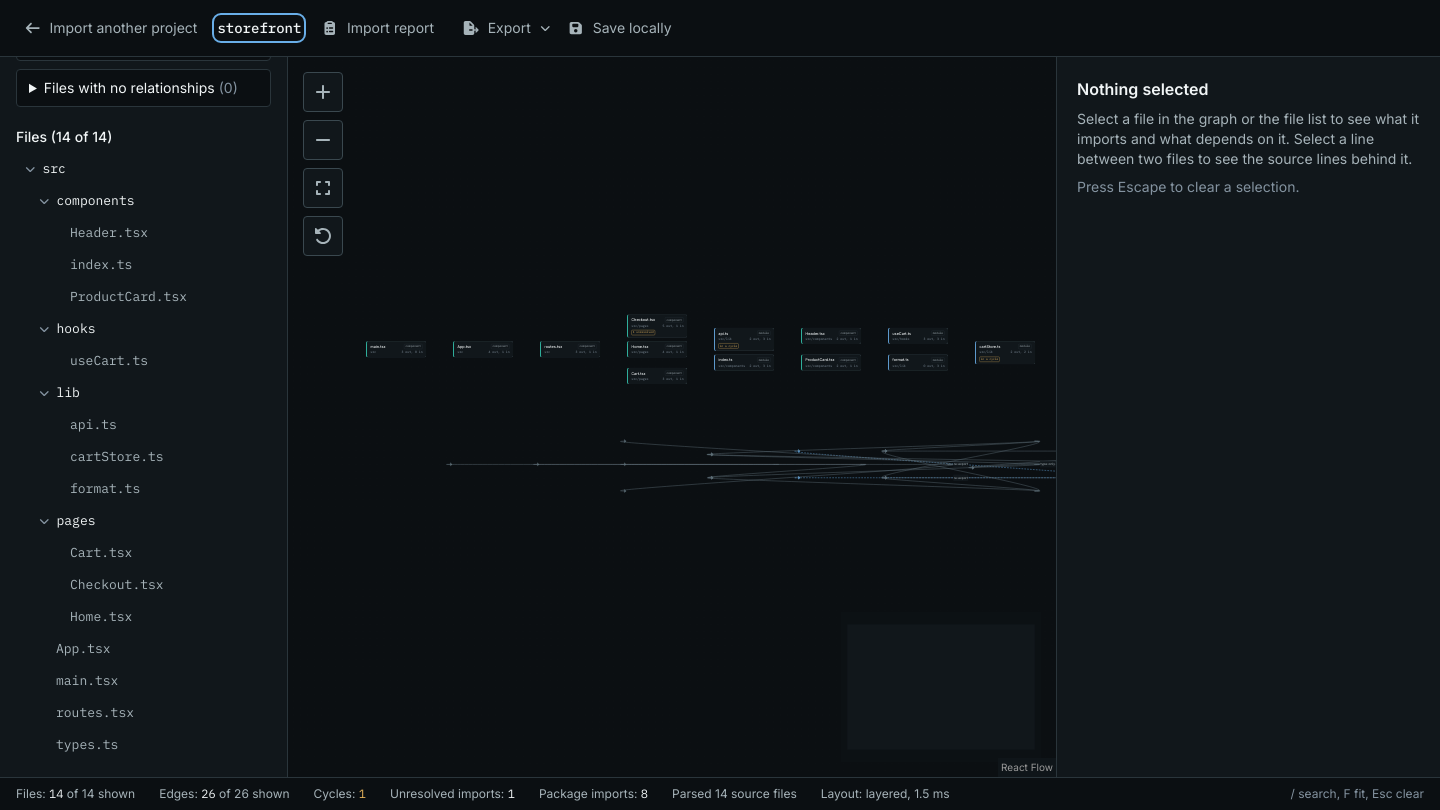
Test case: Workspace with a multi-file project › shows imports and dependents for a file chosen from the list
This screenshot has width=1440, height=810.
(page scrolled)
Click the button "Checkout.tsx" at (144,585), box [16,569,271,601]
(page scrolled)
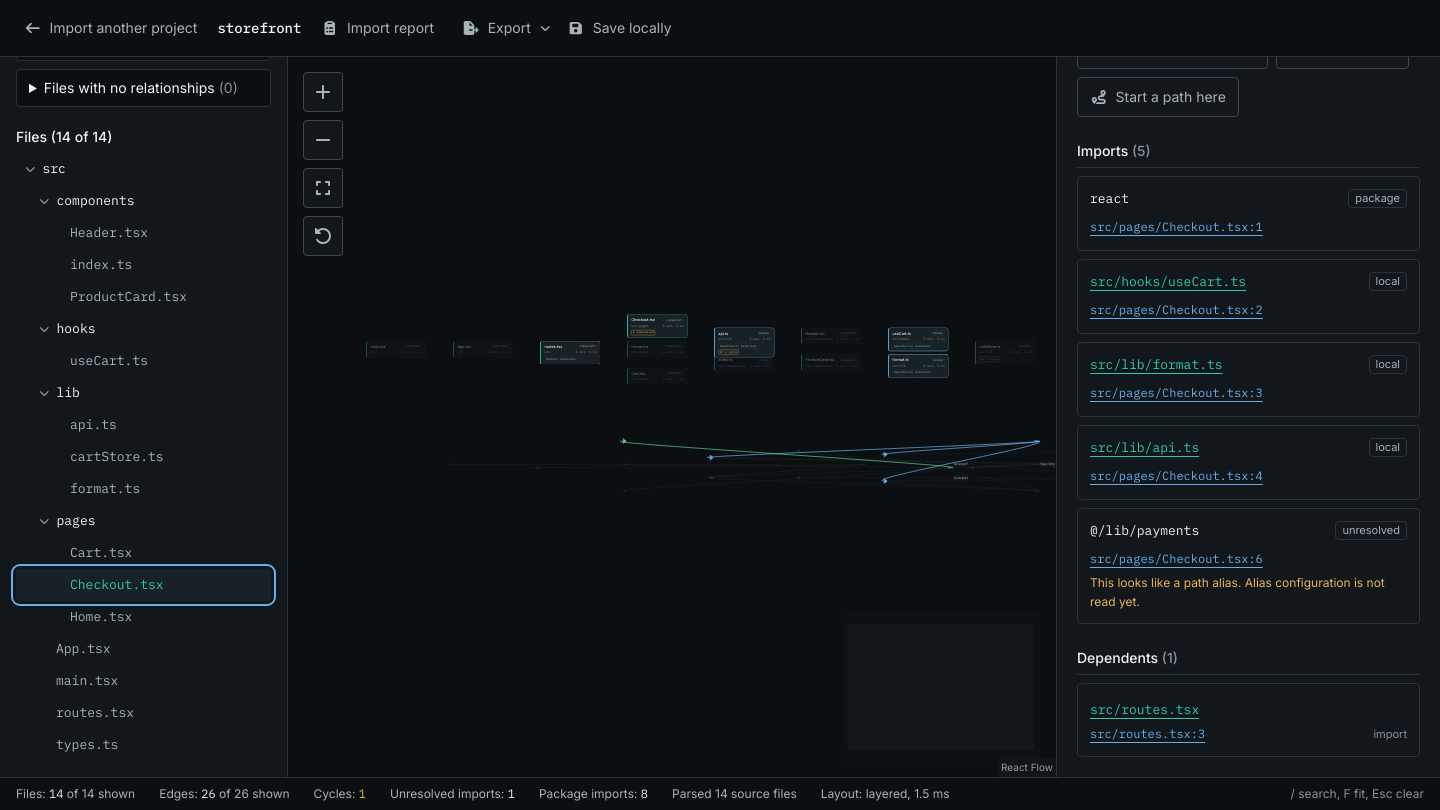
Check: the text "@/lib/payments" is shown, box [1090,521,1199,541]
Check: the text "looks like a path alias" is shown, box [1090,575,1385,608]
Check: the button "src/routes.tsx" is shown, box [1090,700,1199,720]
